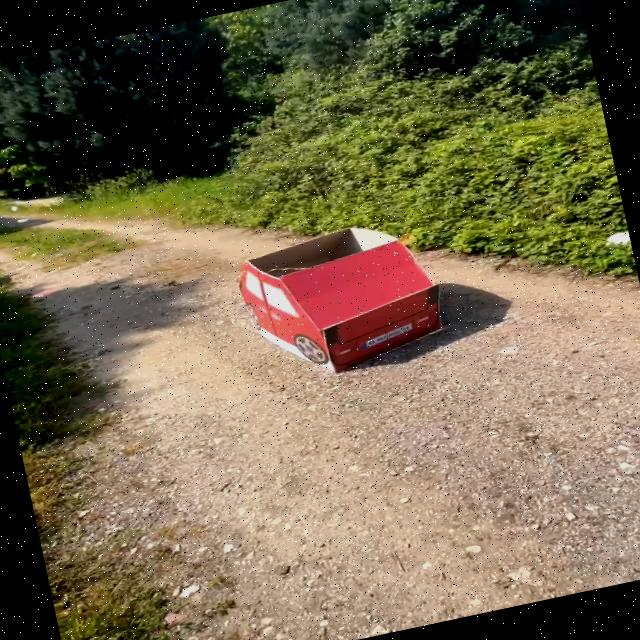red_car: (210, 203, 485, 402)
